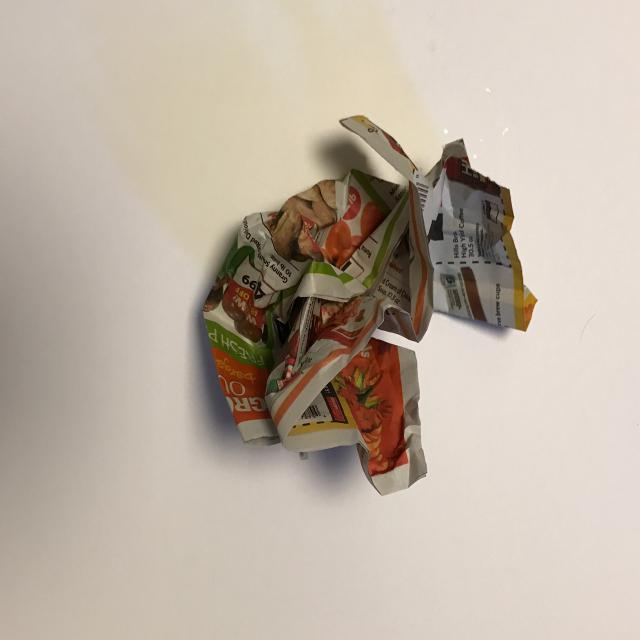paper: (200, 109, 540, 496)
